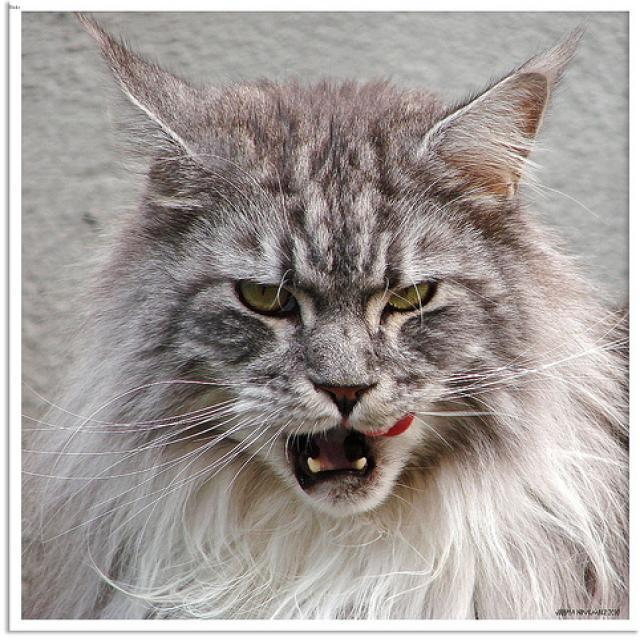Maine_Coon: (69, 7, 562, 524)
